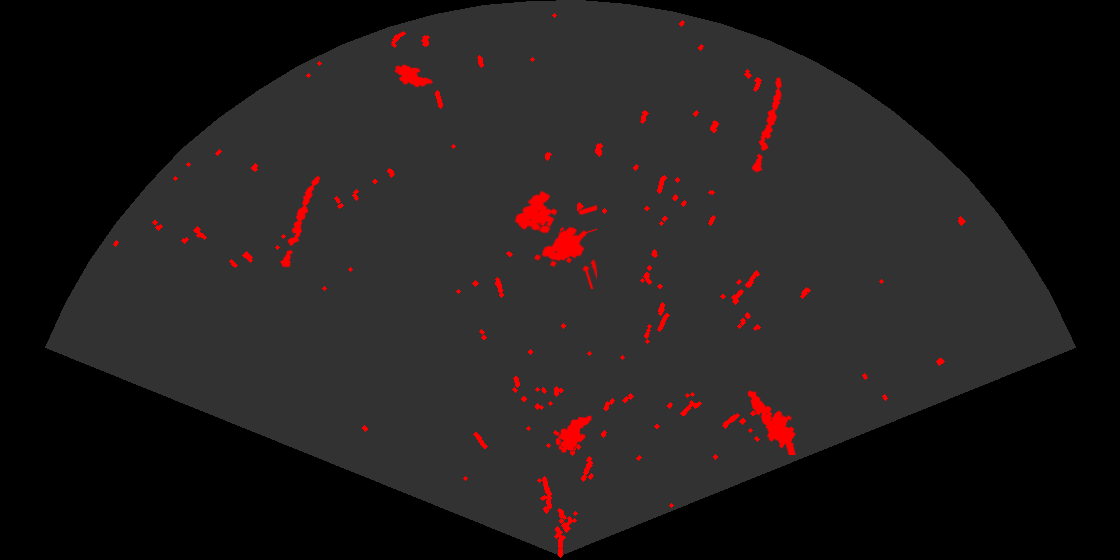AUV: (557, 414, 593, 455), (393, 63, 435, 89)
cage: (513, 189, 597, 289)
chain: (279, 174, 322, 270), (750, 76, 783, 175)
frogman: (746, 389, 797, 455)
